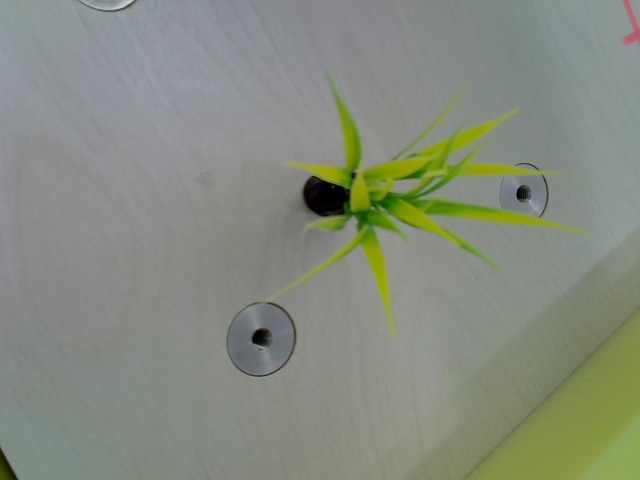해바라기새싹: (276, 74, 560, 331)
